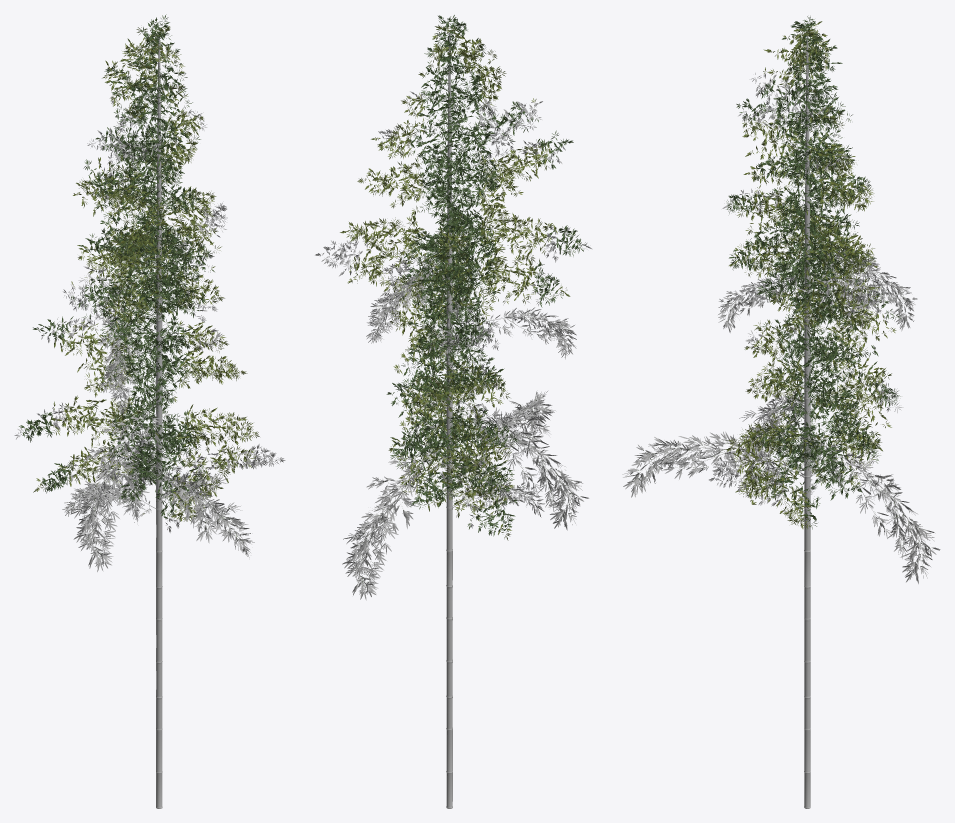
File: SM_Bamboo_a1.fbx
The picture shows the model from 3 angles, left to right: view 1: azimuth 30°, elevation 25°; view 2: azimuth 150°, elevation 25°; view 3: azimuth 270°, elevation 25°; orthographic projection.
Visible parts, largest first — view 1: pasted__精模竹孑; view 2: pasted__精模竹孑; view 3: pasted__精模竹孑.
Part boxes in pixels (x1,y1,x2,y2): pasted__精模竹孑: (14, 14, 285, 808); pasted__精模竹孑: (315, 15, 592, 808); pasted__精模竹孑: (622, 16, 940, 808).
Size of the model in its own units: 1270 by 1667 by 4551.
